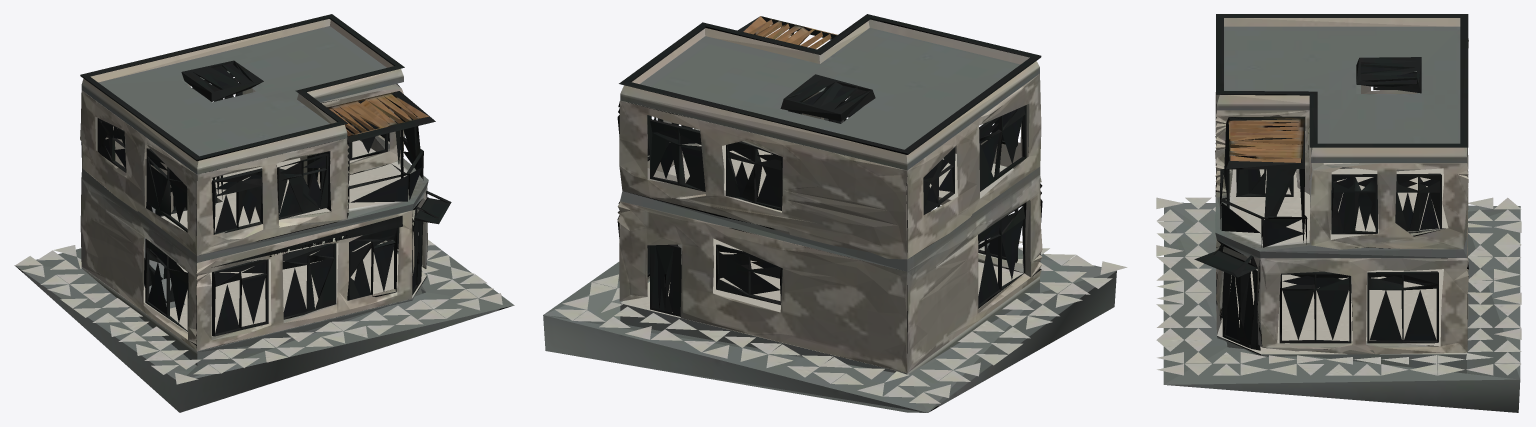
File: stone_shop_lod1.glb
3 views of the same model, side by side, from view 1: azimuth 30°, elevation 25°; view 2: azimuth 150°, elevation 25°; view 3: azimuth 270°, elevation 25° (orthographic). The views are drawn at different scales.
Parts seen in each view (by area): view 1: stone_shop; view 2: stone_shop; view 3: stone_shop.
Boxes of the visible parts, left/top/right/bottom form: stone_shop: left=14, top=14, right=514, bottom=412; stone_shop: left=543, top=14, right=1127, bottom=412; stone_shop: left=1156, top=14, right=1521, bottom=412.
Size of the model in its own units: 13.66 by 8.64 by 11.69.
Materials: 1 (1 with a texture image).
